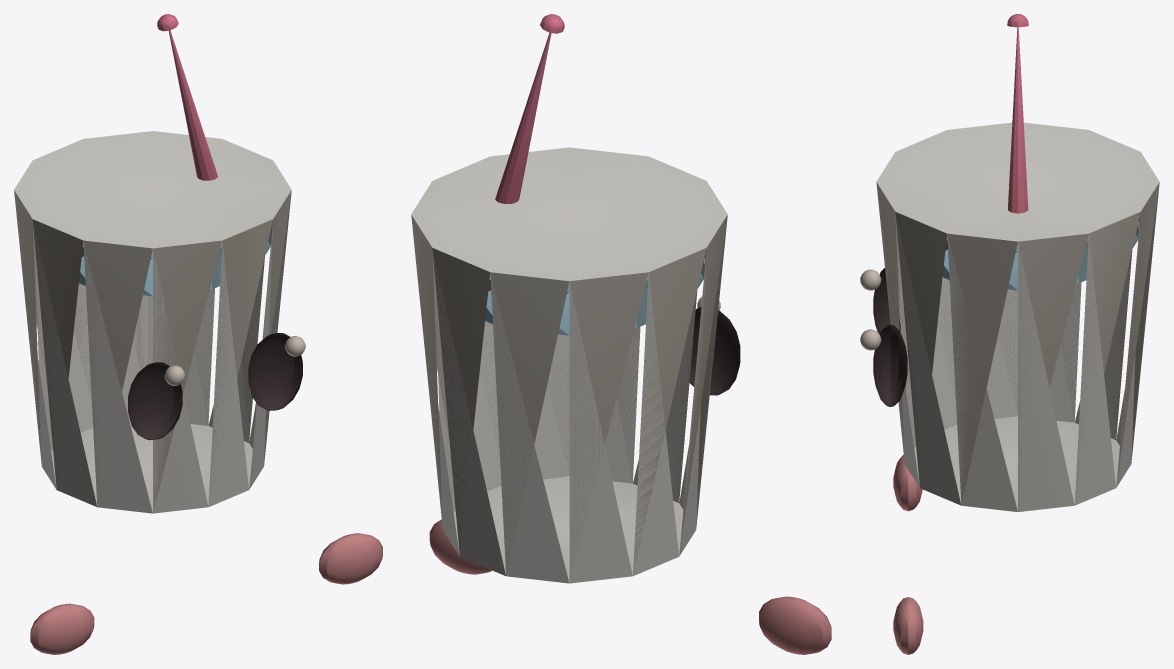
3 views of the same model, side by side, from view 1: azimuth 30°, elevation 25°; view 2: azimuth 150°, elevation 25°; view 3: azimuth 270°, elevation 25° (orthographic). The views are drawn at different scales.
Parts seen in each view (by area): view 1: pet_p36a09cf9; view 2: pet_p36a09cf9; view 3: pet_p36a09cf9.
Part boxes in pixels (<box>): pet_p36a09cf9: <box>14,14,382,654</box>; pet_p36a09cf9: <box>411,14,831,654</box>; pet_p36a09cf9: <box>860,14,1159,654</box>.
Bounding box in the file's own units: 0.2932 × 0.4447 × 0.2114.
